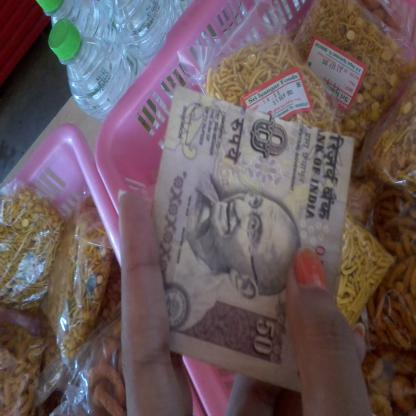Old50Front: (150, 83, 356, 393)
